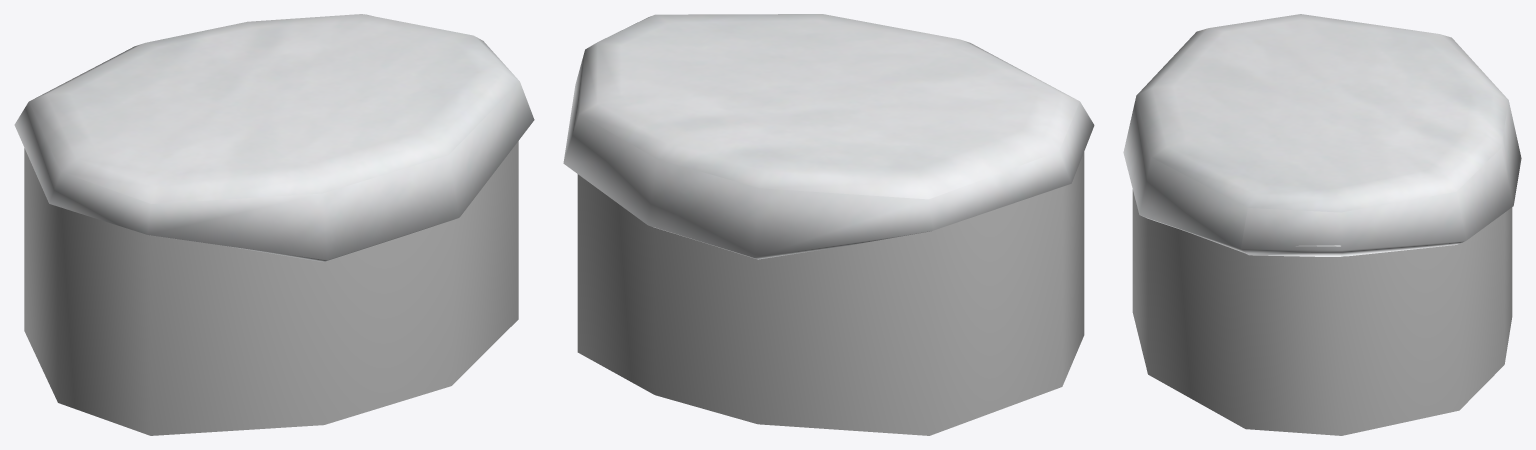
The model's file is Cliff03.fbx.
3 views of the same model, side by side, from view 1: azimuth 30°, elevation 25°; view 2: azimuth 150°, elevation 25°; view 3: azimuth 270°, elevation 25° (orthographic). The views are drawn at different scales.
Parts seen in each view (by area): view 1: Cliff03; view 2: Cliff03; view 3: Cliff03.
Part boxes in pixels (x1,y1,x2,y2): Cliff03: [14, 14, 534, 435]; Cliff03: [563, 14, 1094, 435]; Cliff03: [1123, 14, 1521, 435].
Size of the model in its own units: 259 by 132 by 204.
